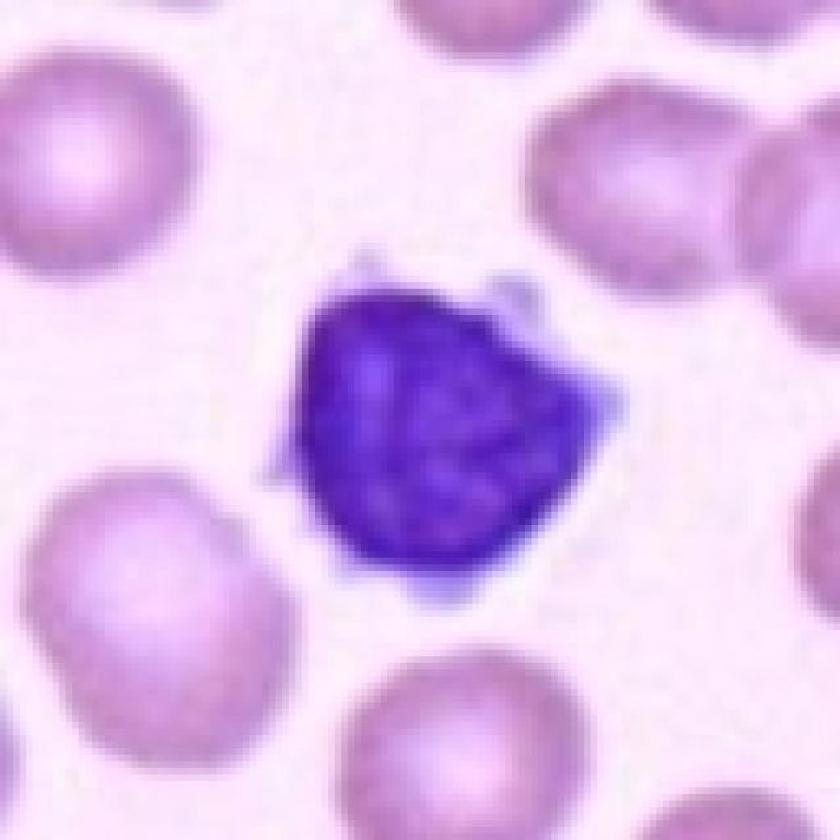lymphocyte: (261, 236, 634, 614)
